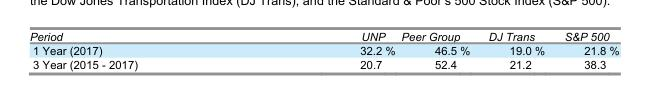table: (28, 29, 618, 70)
table column: (28, 29, 248, 70), (248, 29, 397, 70), (397, 29, 478, 70), (478, 29, 553, 70), (553, 29, 618, 70)
table column header: (28, 29, 618, 42)
table row: (28, 42, 618, 57), (28, 29, 618, 42), (28, 57, 618, 70)
